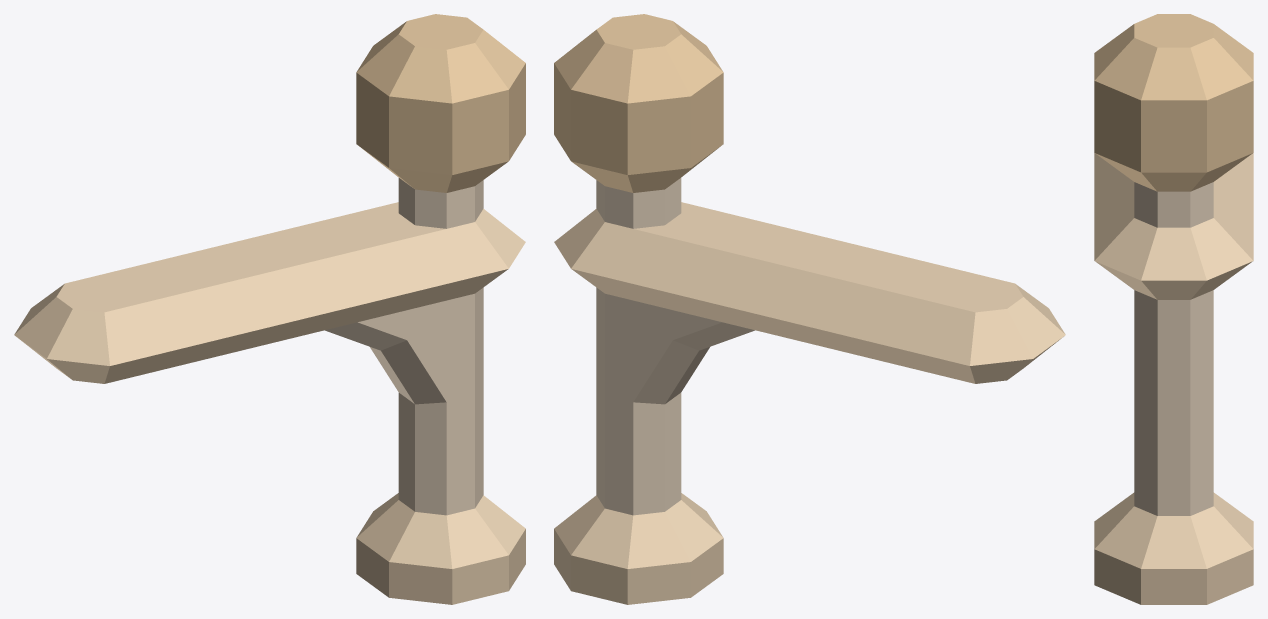
The model's file is Balcony_Railing_End.glb.
3 renders of one model, left to right at view 1: azimuth 30°, elevation 25°; view 2: azimuth 150°, elevation 25°; view 3: azimuth 270°, elevation 25°, orthographic.
Parts seen in each view (by area): view 1: Balcony_Railing_End; view 2: Balcony_Railing_End; view 3: Balcony_Railing_End.
Part boxes in pixels (<box>): Balcony_Railing_End: <box>14,14,525,604</box>; Balcony_Railing_End: <box>554,14,1065,604</box>; Balcony_Railing_End: <box>1094,14,1253,604</box>.
Size of the model in its own units: 0.315 by 0.3375 by 0.09.
